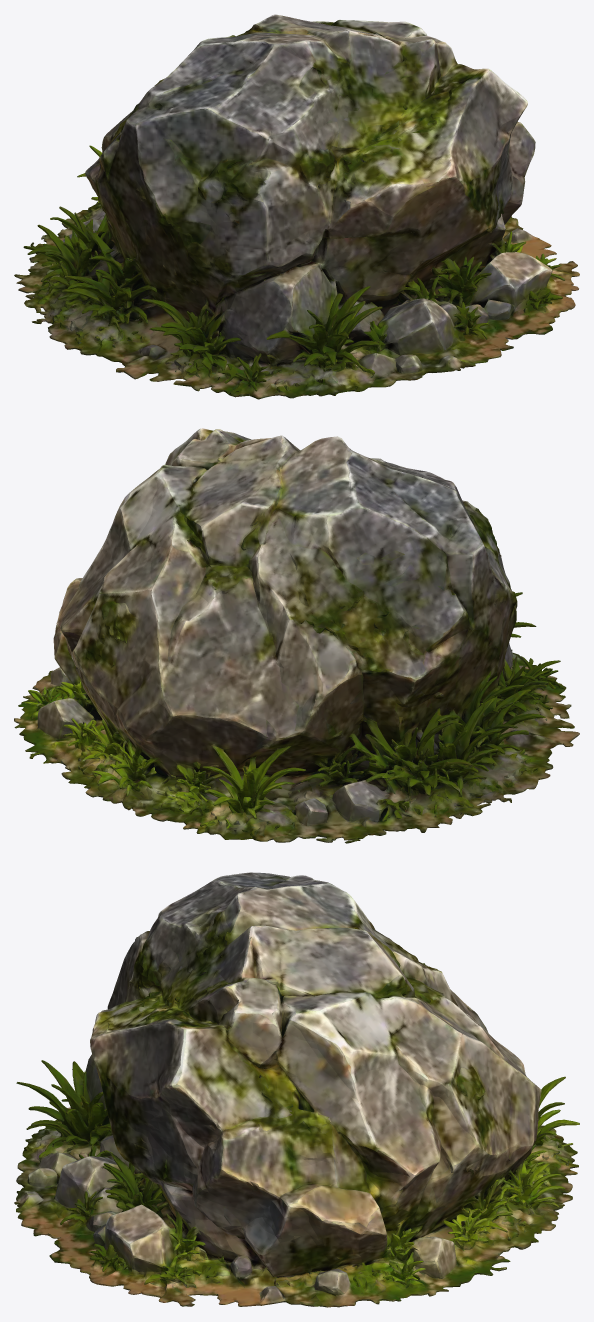
The model's file is boulder.glb.
3 views of the same model, one above another, from view 1: azimuth 30°, elevation 25°; view 2: azimuth 150°, elevation 25°; view 3: azimuth 270°, elevation 25° (orthographic). The views are drawn at different scales.
Visible parts, largest first — view 1: geometry_0; view 2: geometry_0; view 3: geometry_0.
Boxes of the visible parts, left/top/right/bottom form: geometry_0: left=14, top=14, right=579, bottom=399; geometry_0: left=14, top=428, right=579, bottom=843; geometry_0: left=14, top=872, right=579, bottom=1307.
Bounding box in the file's own units: 1 × 0.558 × 0.9739.
1 material, 1 textured.
